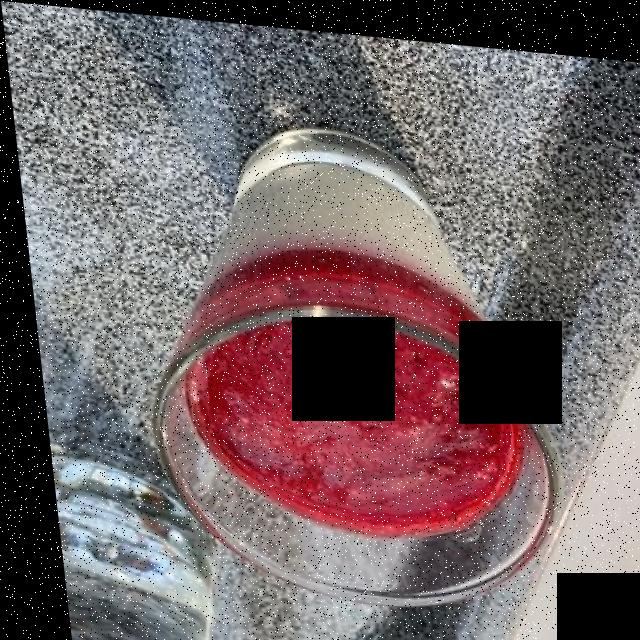fruit-coulis: (171, 266, 511, 511)
panna-cotta: (179, 133, 479, 319)
